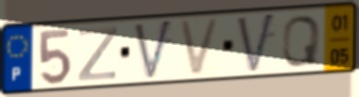5: (37, 26, 75, 86)
Q: (280, 14, 323, 69)
V: (132, 17, 176, 83), (177, 16, 223, 79), (235, 10, 278, 76)
Z: (75, 25, 120, 83)
